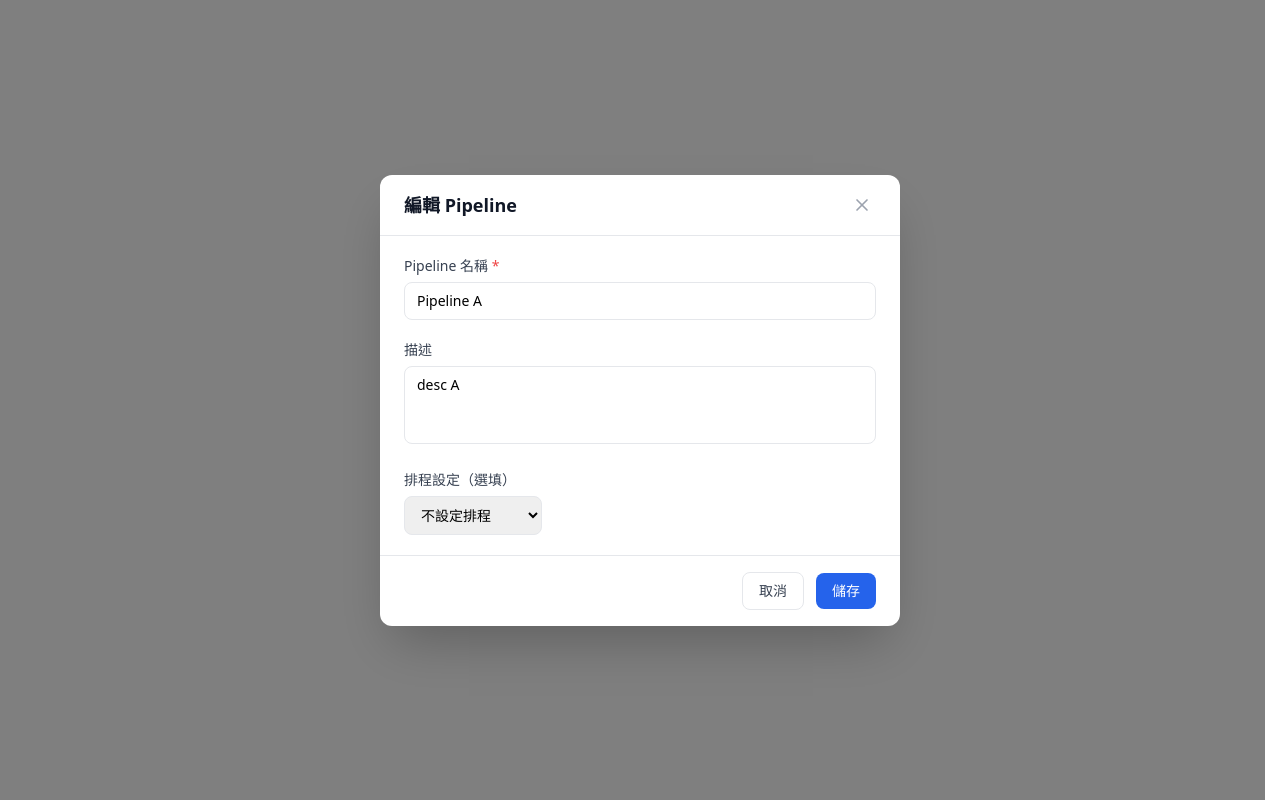
Test: EditPipelineModal (F093) › TS-F093-FE-008: builds hourly cron 30 * * * *
Select "每小時" in the dropdown with test id "schedule-frequency-select" at (473, 515), box [404,496,542,534]
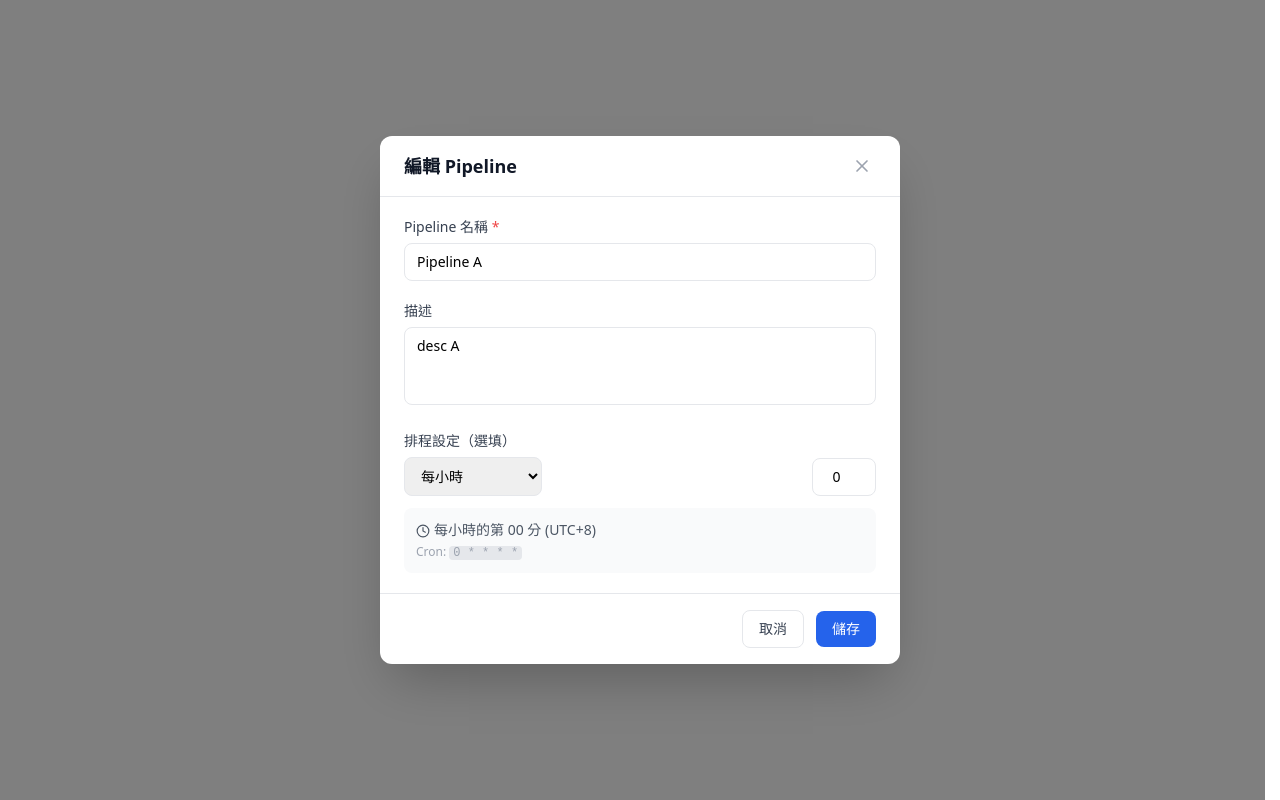
Replace the text in the number field with test id "schedule-minute-input" with "30" at (844, 476), box [812,458,876,496]
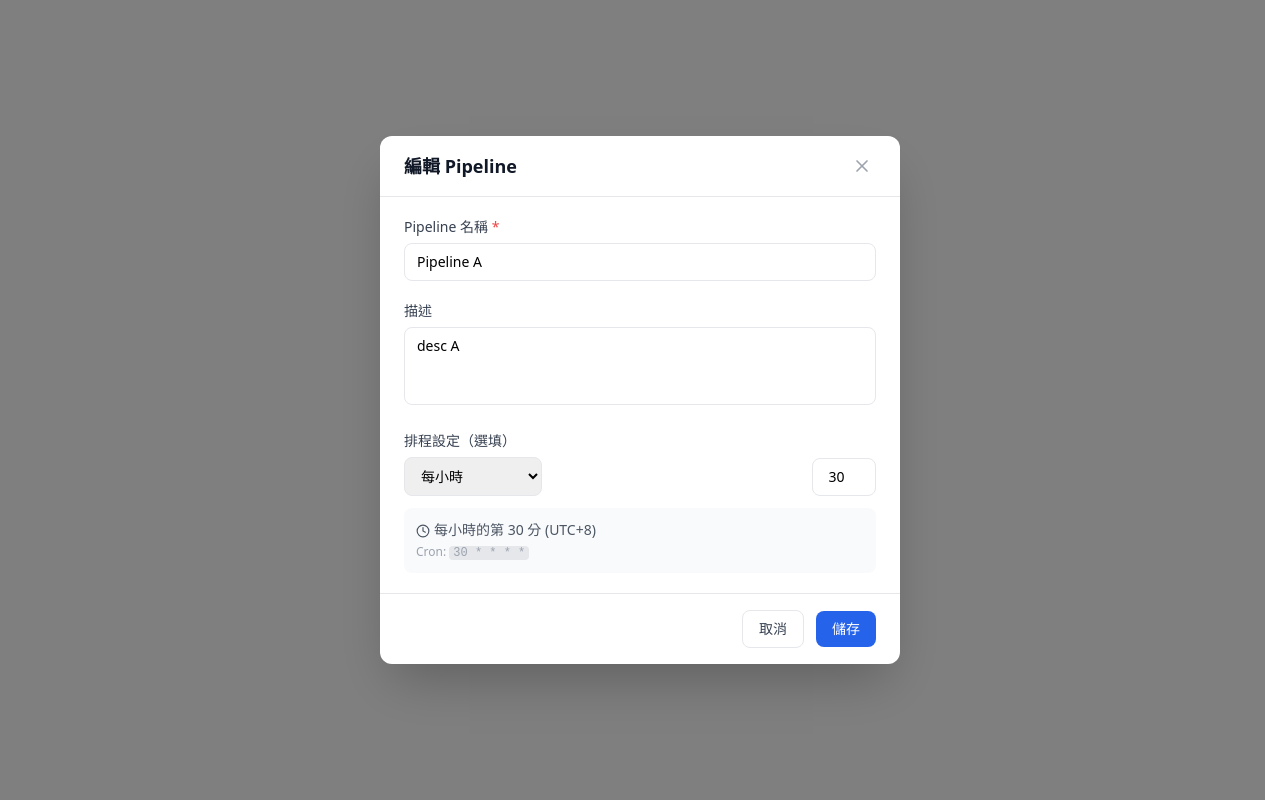
Now the element with test id "schedule-preview" shows "30 * * * *", box [453,546,525,560]
